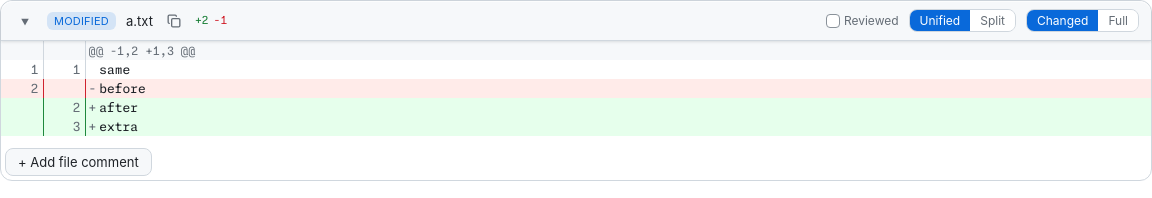
Test: Split lays a change run out side by side, and Full view takes it back to unified
The image size is (1152, 198).
Step 1. Click the button "Split" → point(993, 20), box [970,10,1015,31]
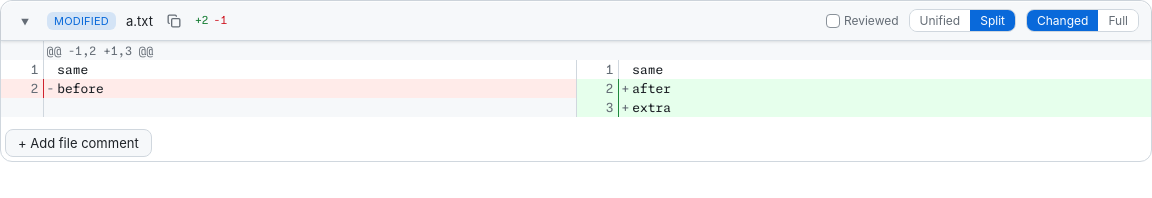
expect the table with class "diff-split" is shown: met, box [1,41,1151,117]
expect the text "same" is shown 2 times: met, box [43,60,576,79]; [618,60,1151,79]
Step 2. Click the button "Full" → point(1118, 20), box [1098,10,1138,31]
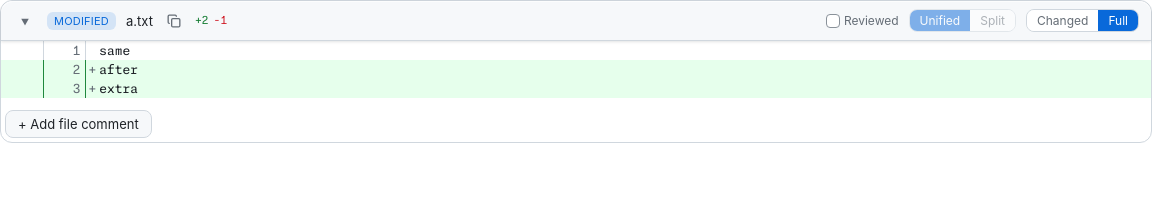
expect the button "Split" is disabled: met, box [970,10,1015,31]
